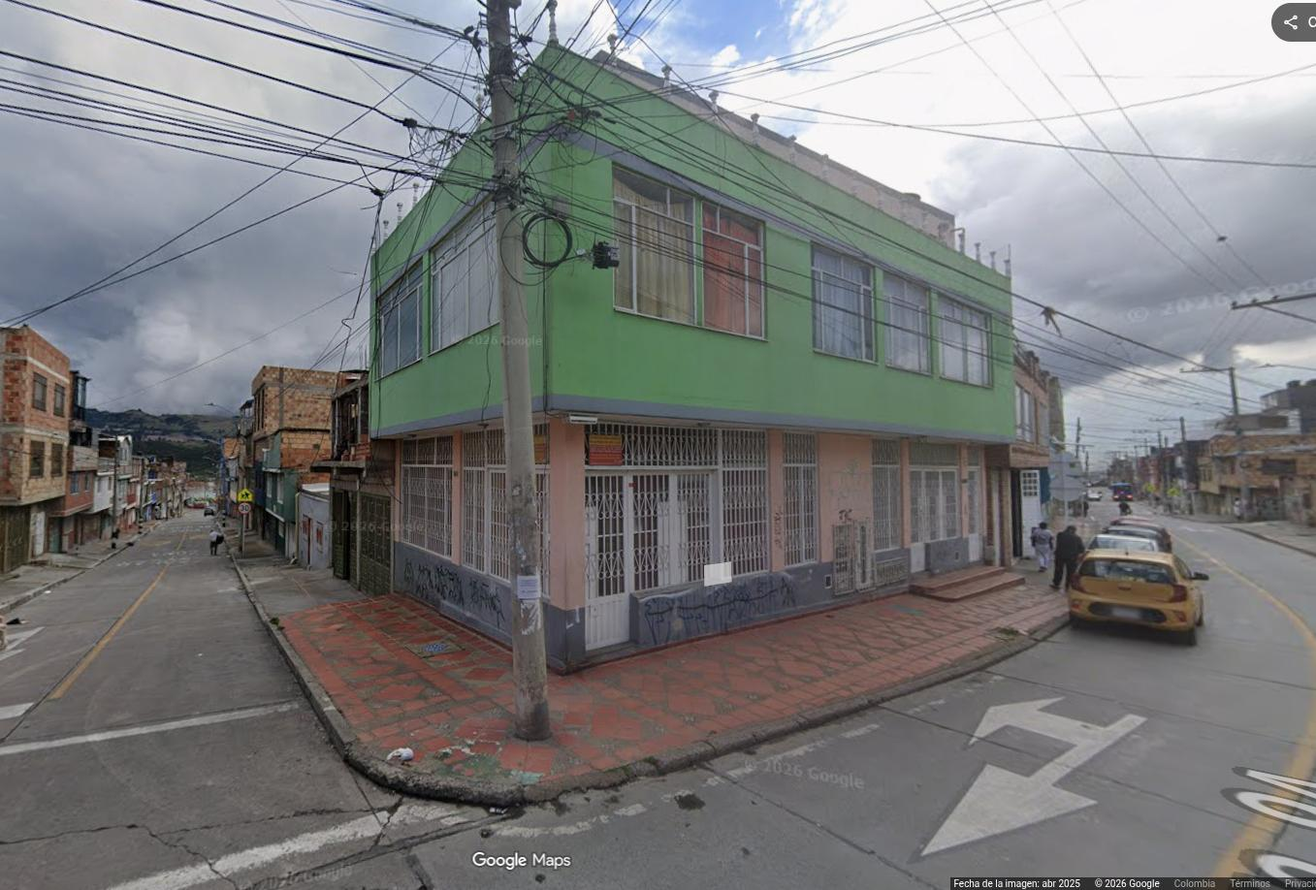casa: (369, 42, 1015, 668)
poste: (489, 0, 551, 740), (1181, 367, 1242, 440), (1241, 474, 1249, 500)
